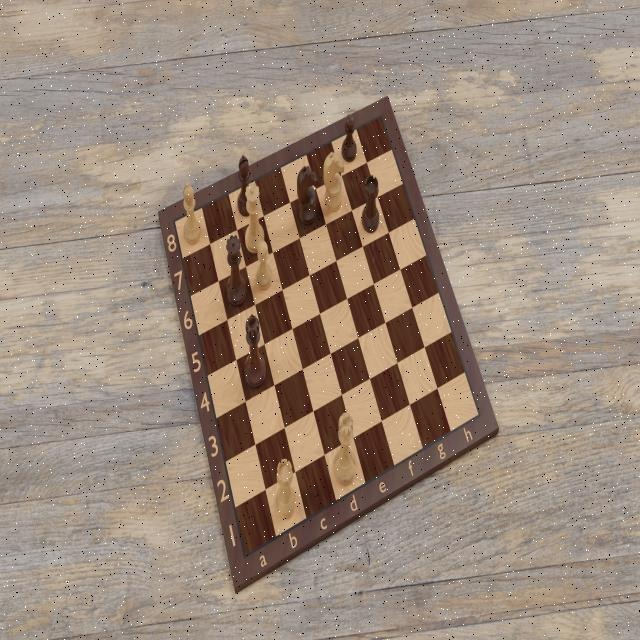black-bishop: (236, 153, 254, 217)
black-king: (242, 312, 267, 390)
black-knight: (295, 164, 319, 228)
black-pawn: (340, 113, 359, 163)
black-queen: (225, 232, 248, 308)
black-rook: (360, 176, 380, 234)
white-bishop: (181, 181, 203, 248)
white-king: (332, 410, 358, 489)
white-knight: (323, 151, 345, 213)
white-pawn: (254, 236, 274, 292)
white-queen: (244, 181, 266, 256)
white-rook: (274, 458, 298, 522)
